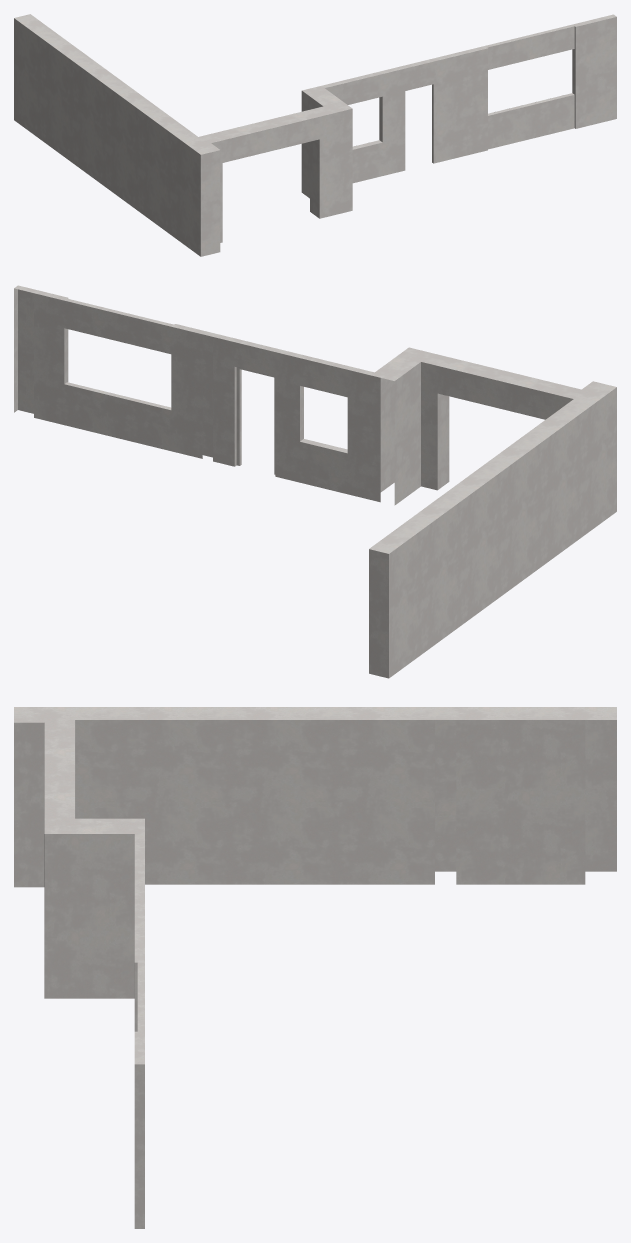
Rendered from Muro_Frontale-transformed.glb.
3 views of the same model, one above another, from view 1: azimuth 30°, elevation 25°; view 2: azimuth 150°, elevation 25°; view 3: azimuth 270°, elevation 25° (orthographic). The views are drawn at different scales.
Visible parts, largest first — view 1: 1floor; view 2: 1floor; view 3: 1floor.
Part boxes in pixels (<box>): 1floor: <box>14,14,616,256</box>; 1floor: <box>14,285,616,678</box>; 1floor: <box>14,707,616,1228</box>.
Size of the model in its own units: 13.94 by 3 by 9.95.
1 material, 1 textured.
